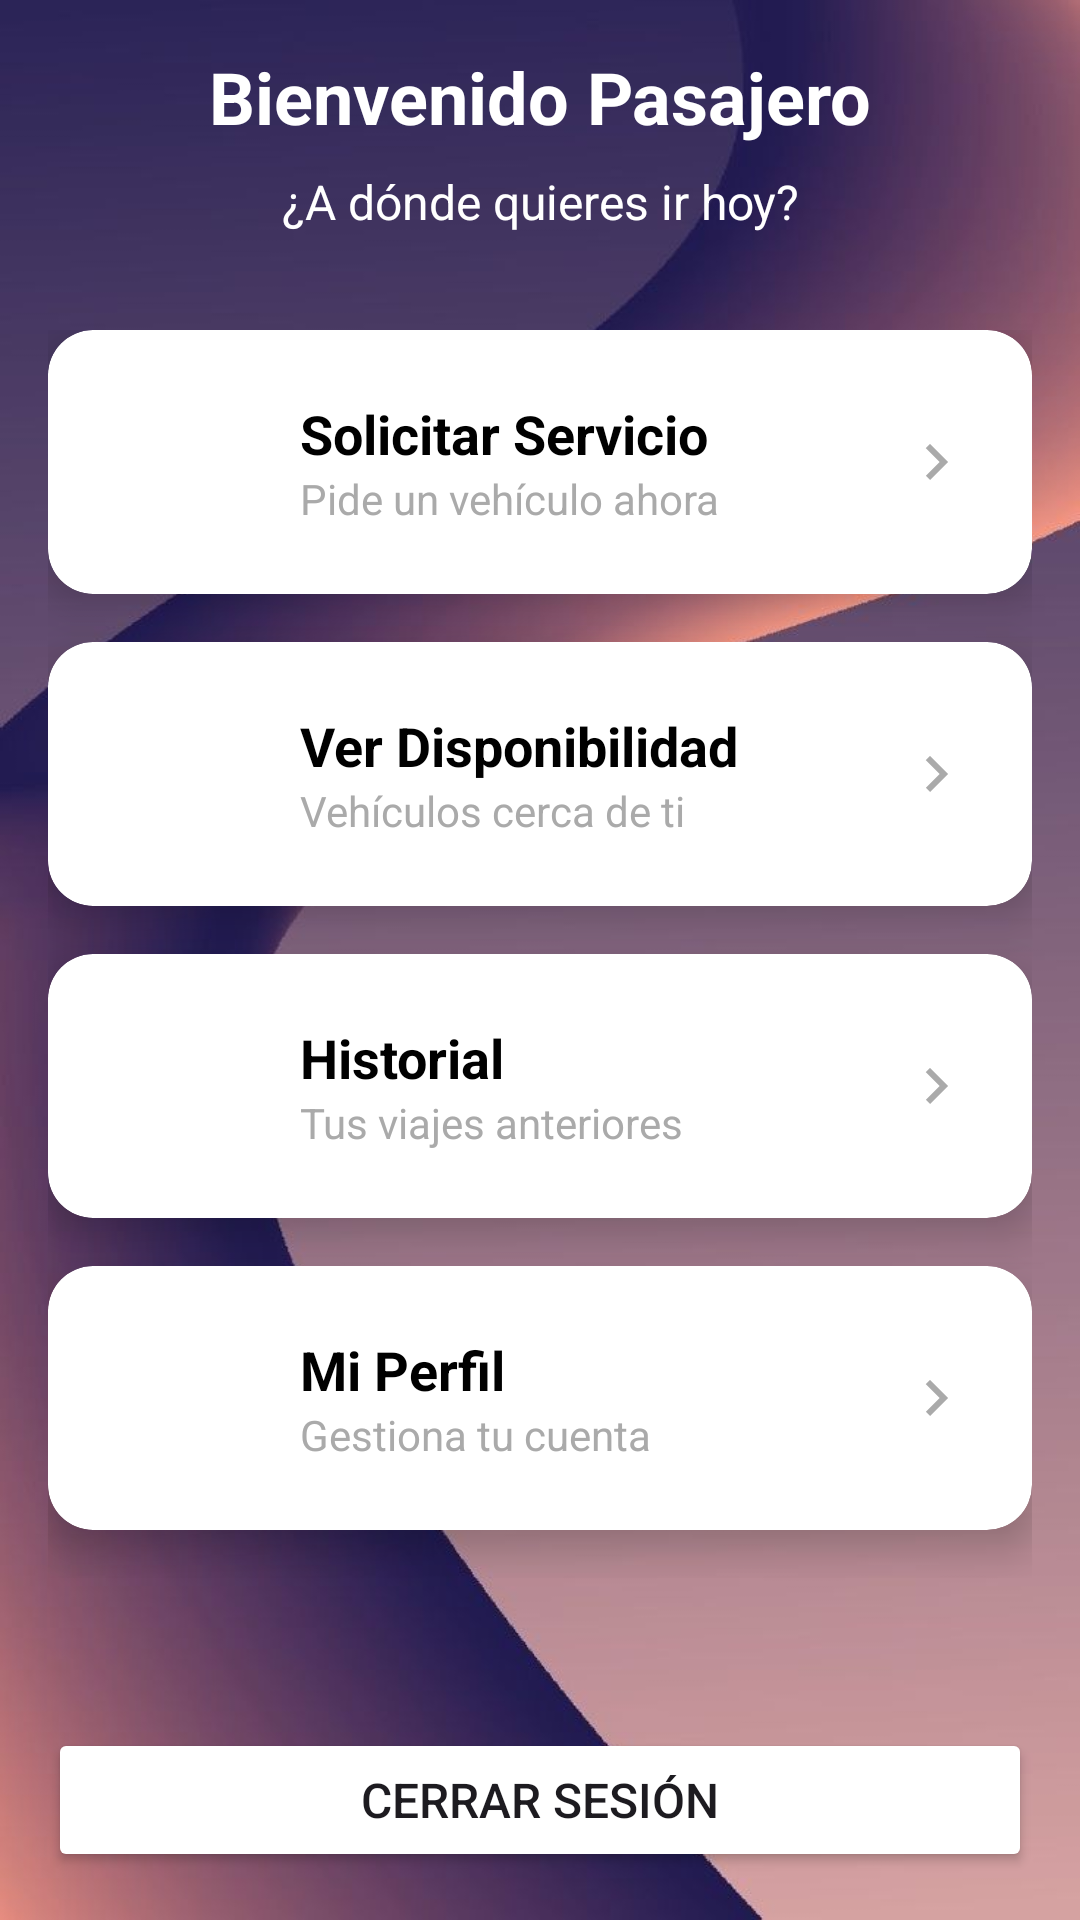

Screen size 1080 x 1920. Icon name, then its box in pixels as (x1=x1, y1=y1, x2=x2, y2=y2):
arrow right: (x1=926, y1=444, x2=948, y2=480), (x1=926, y1=756, x2=948, y2=792), (x1=926, y1=1068, x2=948, y2=1104), (x1=926, y1=1380, x2=948, y2=1416)
